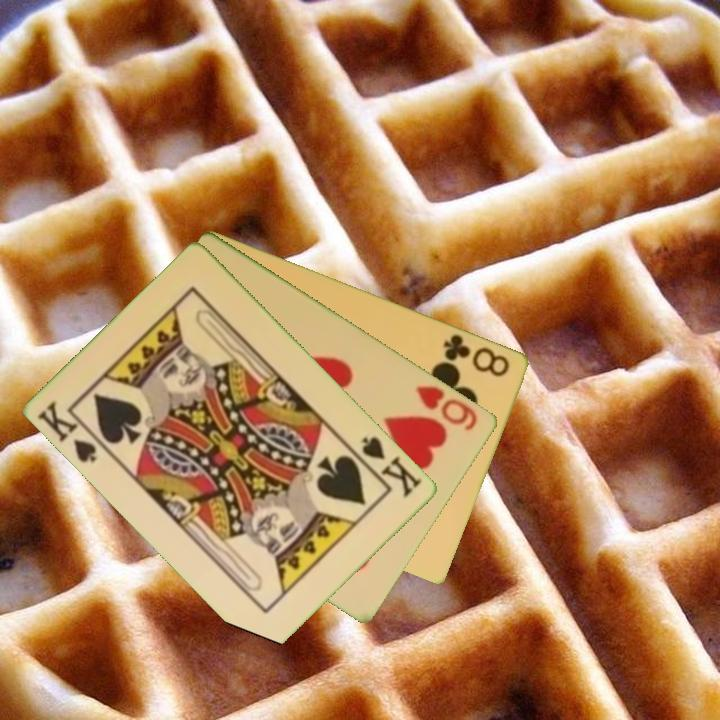6h: (413, 381, 481, 434)
8c: (440, 330, 513, 380)
Ks: (34, 397, 111, 466), (350, 433, 426, 501)
